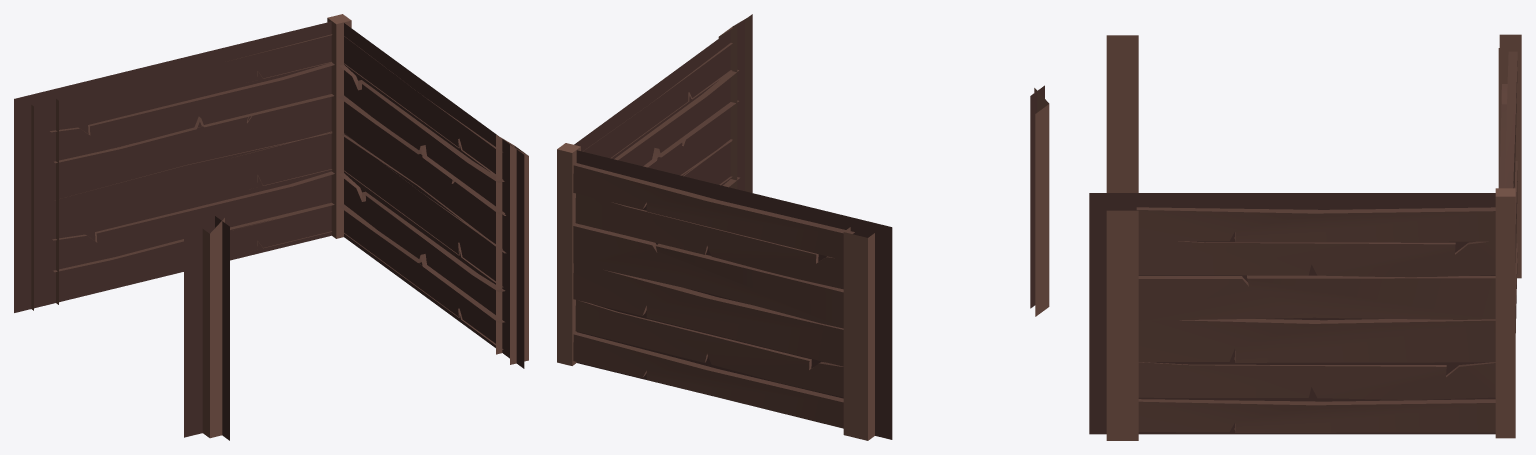
File: Building_Angle_005.glb
3 views of the same model, side by side, from view 1: azimuth 30°, elevation 25°; view 2: azimuth 150°, elevation 25°; view 3: azimuth 270°, elevation 25° (orthographic). The views are drawn at different scales.
Parts seen in each view (by area): view 1: Building_Angle_005; view 2: Building_Angle_005; view 3: Building_Angle_005.
Part boxes in pixels (box(x1,y1,x2,y2)): Building_Angle_005: box(14, 14, 528, 440); Building_Angle_005: box(557, 14, 1049, 440); Building_Angle_005: box(1089, 34, 1521, 440).
Bounding box in the file's own units: 7.4 × 4.61 × 7.29.
Materials: 1 (1 with a texture image).
